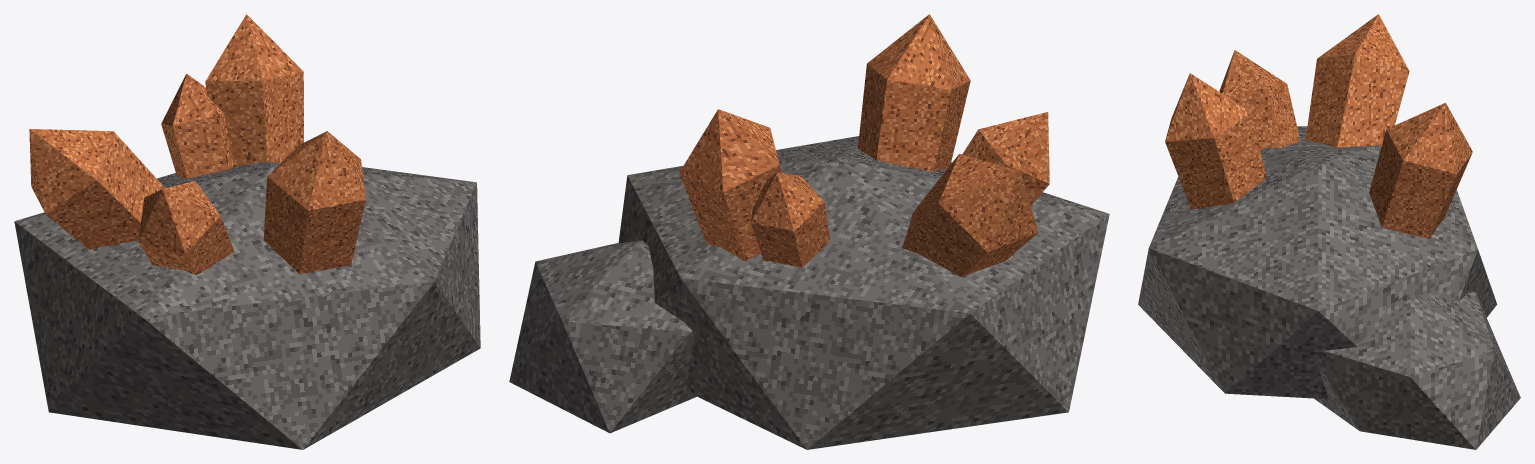
File: coppergleam_ore.glb
3 renders of one model, left to right at view 1: azimuth 30°, elevation 25°; view 2: azimuth 150°, elevation 25°; view 3: azimuth 270°, elevation 25°, orthographic. The views are drawn at different scales.
Parts seen in each view (by area): view 1: Body.011; view 2: Body.011; view 3: Body.011.
Boxes of the visible parts, x1=… form: Body.011: x1=14, y1=14, x2=480, y2=449; Body.011: x1=509, y1=14, x2=1109, y2=449; Body.011: x1=1138, y1=14, x2=1520, y2=449.
Size of the model in its own units: 0.262 by 0.187 by 0.2083.
Materials: 2 (2 with a texture image).
